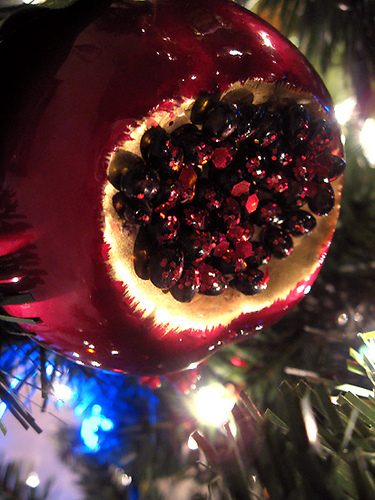pomogranate: (0, 1, 343, 377)
